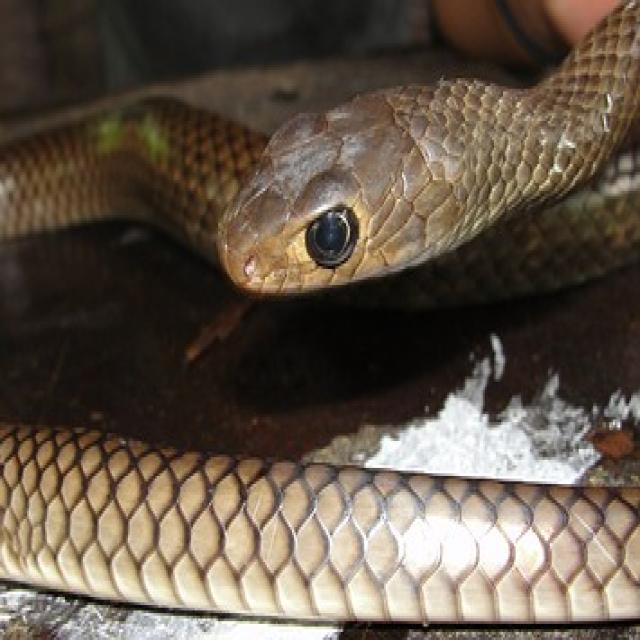Snake: (9, 14, 640, 620)
